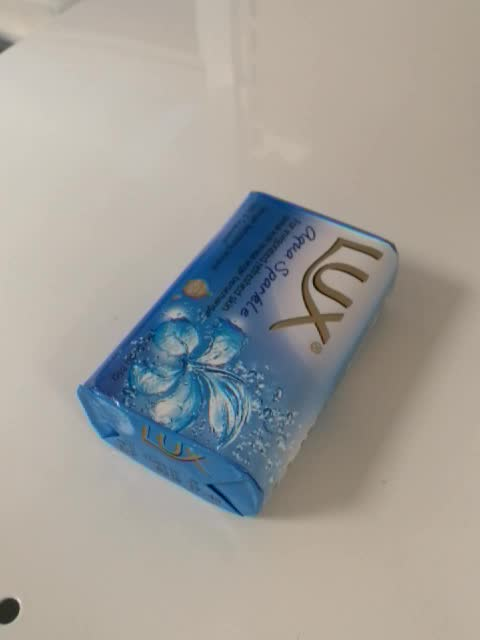soap: (74, 189, 402, 520)
